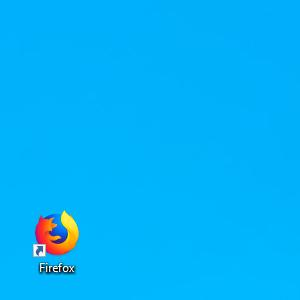firefox: (32, 209, 80, 257)
